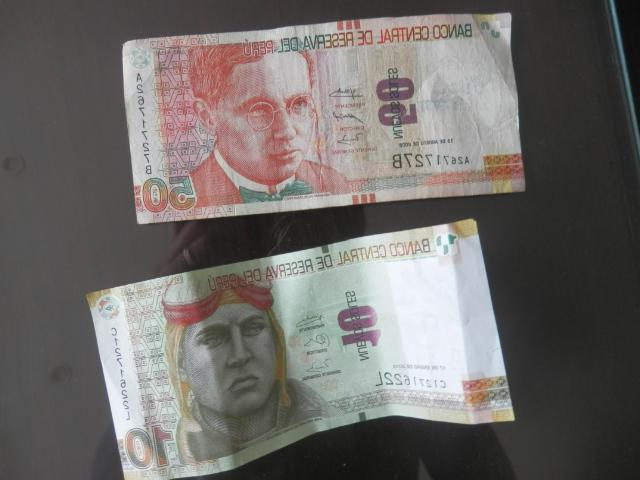B10: (88, 220, 515, 480)
B50: (121, 10, 527, 224)
